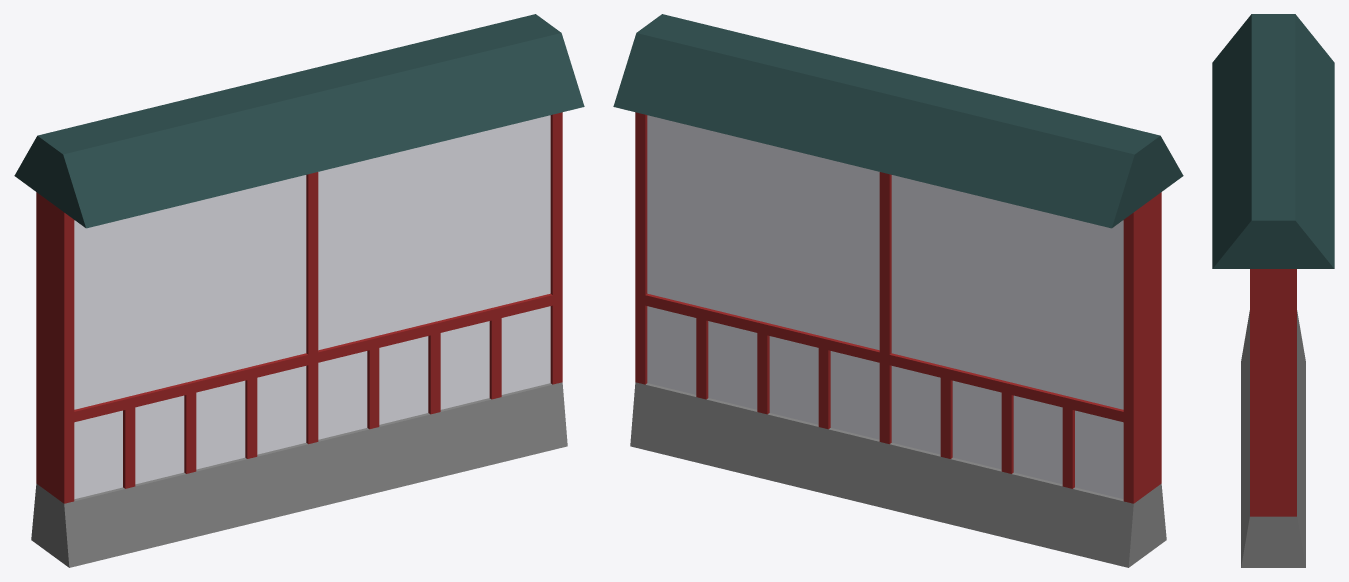
Rendered from Asian_Prop_Building_Fence_Wall_Framed_02.FBX.
The picture shows the model from 3 angles, left to right: view 1: azimuth 30°, elevation 25°; view 2: azimuth 150°, elevation 25°; view 3: azimuth 270°, elevation 25°; orthographic projection. The views are drawn at different scales.
Parts seen in each view (by area): view 1: Asian_Prop_Building_Fence_Wall_Framed_02; view 2: Asian_Prop_Building_Fence_Wall_Framed_02; view 3: Asian_Prop_Building_Fence_Wall_Framed_02.
Boxes of the visible parts, bbox=[...] form: Asian_Prop_Building_Fence_Wall_Framed_02: bbox=[14, 14, 584, 567]; Asian_Prop_Building_Fence_Wall_Framed_02: bbox=[613, 14, 1183, 567]; Asian_Prop_Building_Fence_Wall_Framed_02: bbox=[1212, 14, 1334, 567].
Bounding box in the file's own units: 5167 × 4051 × 1290.
